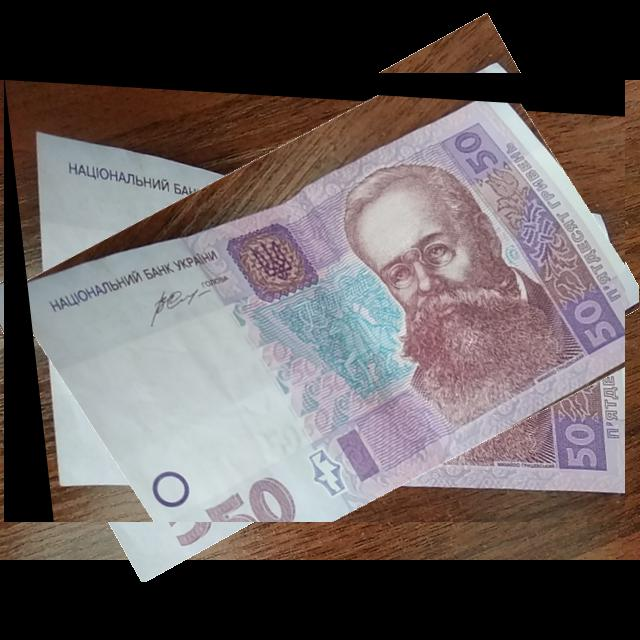50uah: (4, 73, 626, 523)
